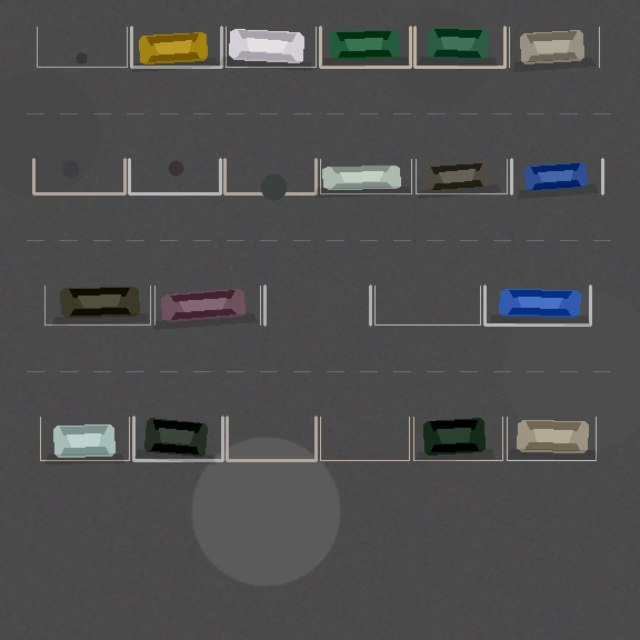space-empty: (264, 286, 370, 324), (374, 286, 480, 324), (227, 417, 316, 460), (320, 417, 409, 460), (37, 27, 127, 67), (224, 159, 316, 193), (33, 159, 124, 193), (129, 159, 220, 193)
space-occupied: (44, 286, 150, 324), (154, 286, 260, 324), (484, 286, 590, 324), (40, 417, 129, 460), (133, 417, 222, 460), (413, 417, 502, 460), (507, 417, 596, 460), (131, 27, 221, 67), (226, 27, 316, 67), (320, 27, 410, 67), (414, 27, 504, 67), (509, 27, 599, 67), (320, 159, 411, 193), (416, 159, 507, 193), (511, 159, 602, 193)
